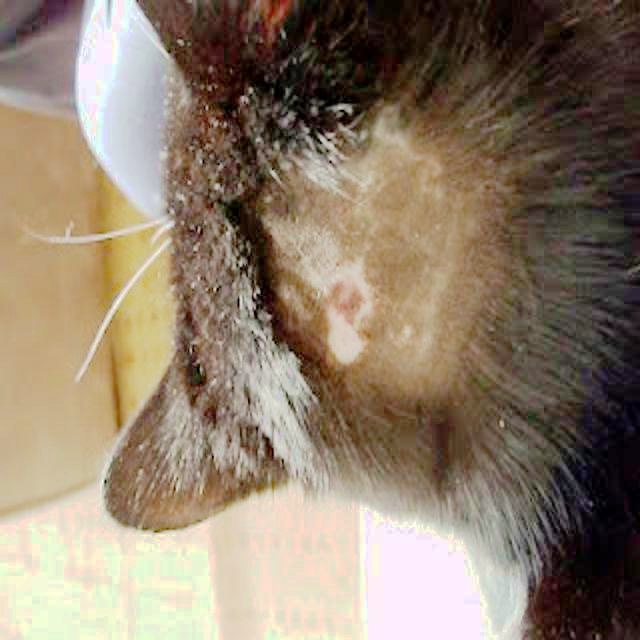ringworm: (315, 267, 378, 373)
